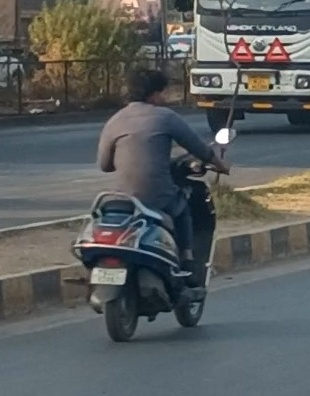BikeWithRider: (61, 62, 241, 345)
NoHelmet: (121, 64, 174, 112)
